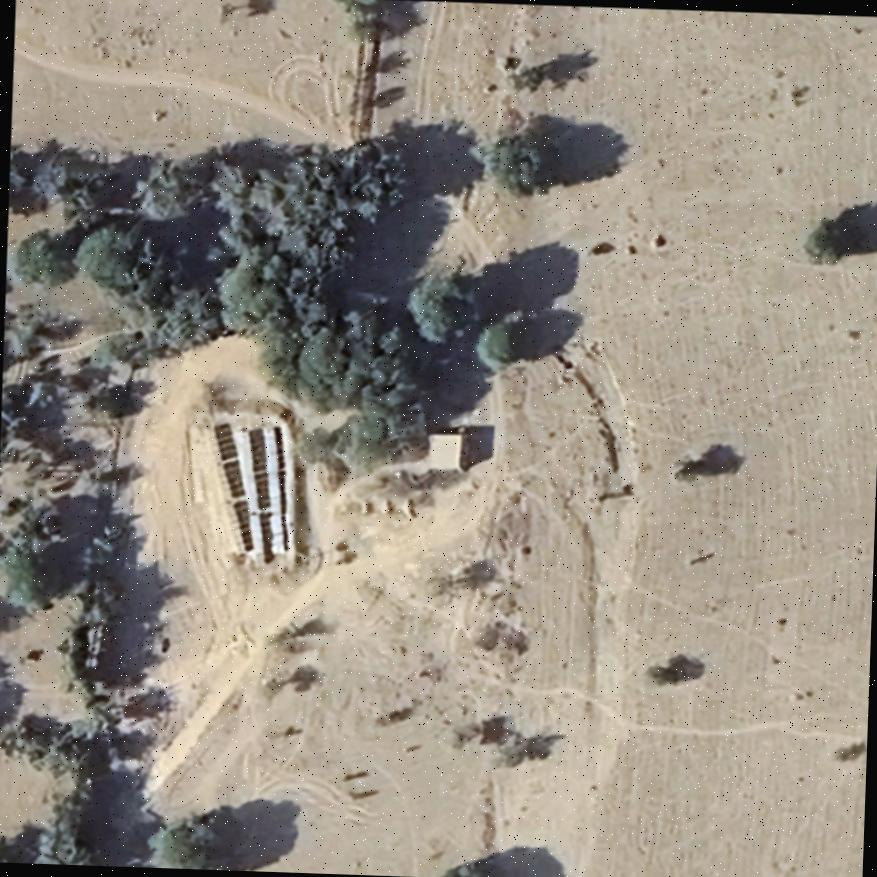Solarpanel: (228, 425, 266, 564), (263, 424, 289, 558)
